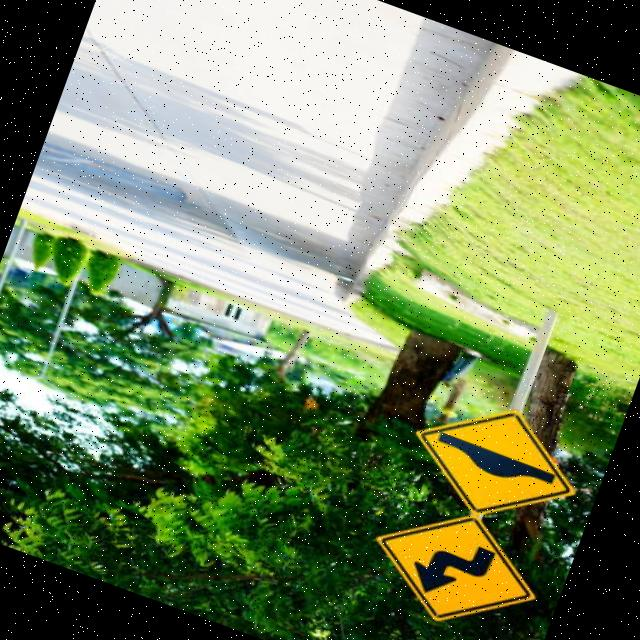left_sharp_curve: (353, 485, 559, 640)
